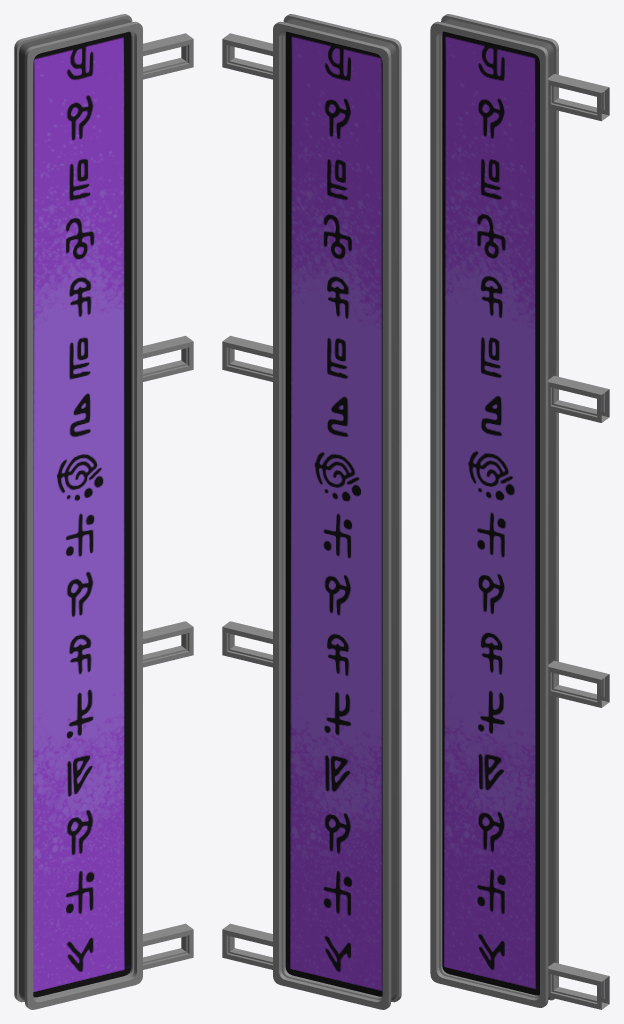
3 renders of one model, left to right at view 1: azimuth 30°, elevation 25°; view 2: azimuth 150°, elevation 25°; view 3: azimuth 330°, elevation 25°, orthographic.
Visible parts, largest first — view 1: MS_8M_3; view 2: MS_8M_3; view 3: MS_8M_3.
Part boxes in pixels (x1=…): MS_8M_3: x1=14, y1=14, x2=193, y2=1009; MS_8M_3: x1=222, y1=14, x2=401, y2=1009; MS_8M_3: x1=430, y1=14, x2=609, y2=1009.
Bounding box in the file's own units: 147 × 800 × 19.93.
